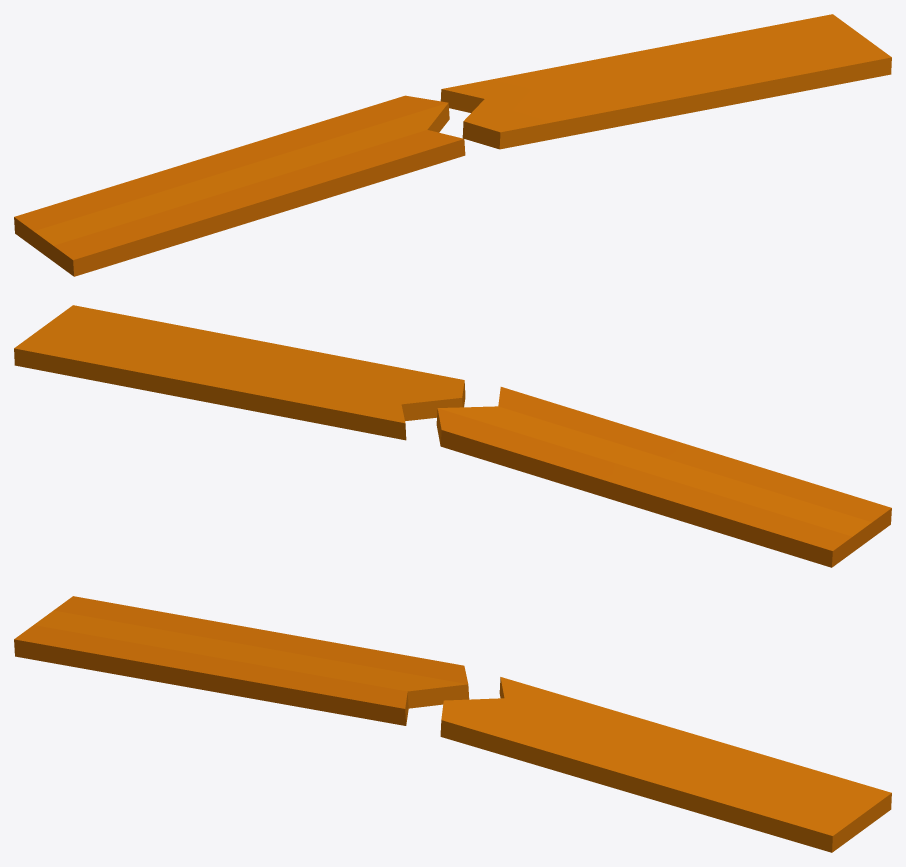
File: Broken_plank_10.fbx
3 views of the same model, one above another, from view 1: azimuth 30°, elevation 25°; view 2: azimuth 150°, elevation 25°; view 3: azimuth 330°, elevation 25° (orthographic).
Visible parts, largest first — view 1: Cube.082, Cube.077; view 2: Cube.082, Cube.077; view 3: Cube.077, Cube.082.
Part boxes in pixels (x1,y1,x2,y2): Cube.082: (14, 95, 465, 276); Cube.077: (440, 14, 891, 149); Cube.082: (436, 387, 891, 567); Cube.077: (14, 305, 465, 440); Cube.077: (440, 677, 891, 852); Cube.082: (14, 596, 469, 725).
Size of the model in its own units: 104 by 5.4 by 13.07.
